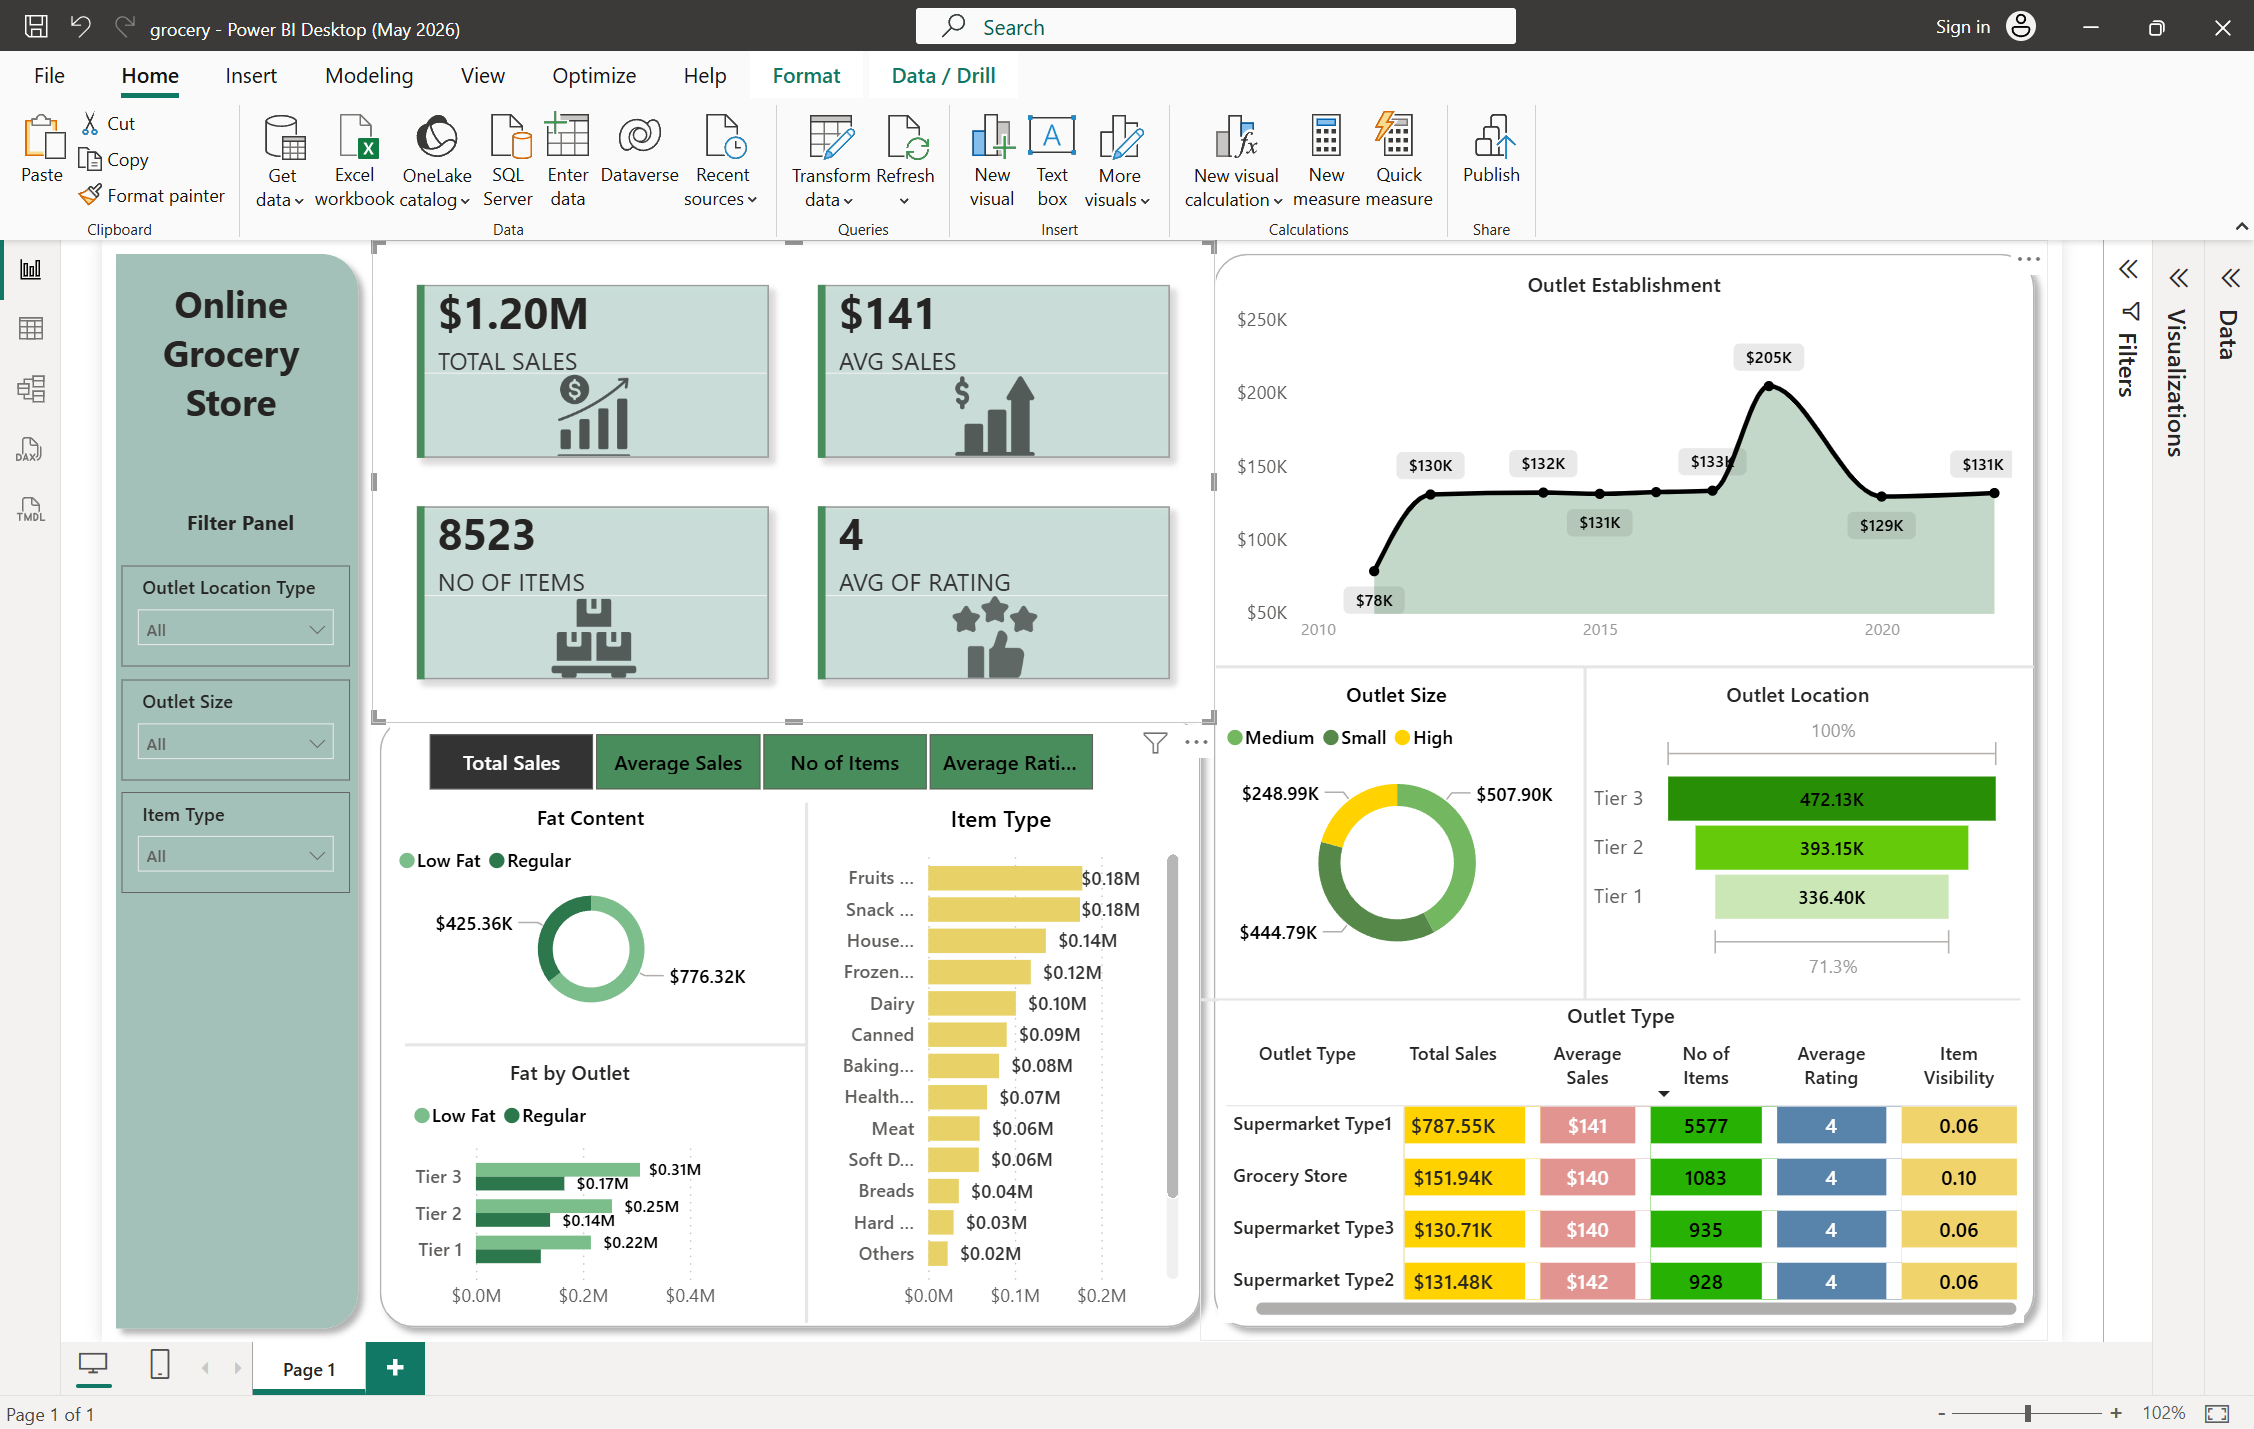

This screenshot's page, from the dashboard's own definition file:
{"tool":"powerbi","page":{"name":"Page 1","canvas":[1280,720],"ordinal":0},"visuals":[{"type":"shape","box":[0,0,176.4,720.3],"z":0},{"type":"textbox","box":[9.8,19.6,149.1,118.5],"z":1000},{"type":"cardVisual","fields":{"Data":["BlinkIT Grocery Data.Total Sales","BlinkIT Grocery Data.Average Sales","BlinkIT Grocery Data.No of Items","BlinkIT Grocery Data.Average Rating"]},"box":[176.1,0,551,316],"z":2000},{"type":"shape","box":[172.4,302.8,554.2,416.6],"z":3000},{"type":"donutChart","title":"Fat Content","fields":{"Y":["BlinkIT Grocery Data.Total Sales"],"Category":["BlinkIT Grocery Data.Item Fat Content"]},"box":[187.9,367.5,262.1,144.8],"z":4000},{"type":"slicer","fields":{"Values":["Metrics.Metrics"]},"box":[187.9,316,483.6,50.3],"z":5000},{"type":"clusteredBarChart","title":"Fat by Outlet","fields":{"Y":["BlinkIT Grocery Data.Total Sales"],"Category":["BlinkIT Grocery Data.Outlet Location Type"],"Series":["BlinkIT Grocery Data.Item Fat Content"]},"box":[197.5,533.9,215.5,173.6],"z":6000},{"type":"shape","box":[453.7,367.5,13.2,340],"z":7000},{"type":"shape","box":[197.9,517.5,262.1,16.8],"z":8000},{"type":"barChart","title":"Item Type","fields":{"Y":["BlinkIT Grocery Data.Total Sales"],"Category":["BlinkIT Grocery Data.Item Type"]},"box":[466.8,367.5,241.8,340],"z":9000},{"type":"shape","box":[717,0,554.2,719.4],"z":10000},{"type":"lineChart","title":"Outlet Establishment","fields":{"Category":["BlinkIT Grocery Data.Outlet Establishment Year"],"Y":["BlinkIT Grocery Data.Total Sales"]},"box":[736.2,19.2,517.1,251.4],"z":11000},{"type":"shape","box":[717,488.4,536.3,16.8],"z":12000},{"type":"donutChart","title":"Outlet Size","fields":{"Category":["BlinkIT Grocery Data.Outlet Size"],"Y":["BlinkIT Grocery Data.Total Sales"]},"box":[729,287.3,233.4,192.7],"z":13000},{"type":"shape","box":[962.4,278.9,13.2,217.9],"z":14000},{"type":"funnel","title":"Outlet Location","fields":{"Category":["BlinkIT Grocery Data.Outlet Location Type"],"Y":["Sum(BlinkIT Grocery Data.Sales)"]},"box":[969.6,287.3,277.7,201.1],"z":15000},{"type":"shape","box":[726.6,270.5,536.3,16.8],"z":16000},{"type":"pivotTable","title":"Outlet Type","fields":{"Rows":["BlinkIT Grocery Data.Outlet Type"],"Values":["BlinkIT Grocery Data.Total Sales","BlinkIT Grocery Data.Average Sales","BlinkIT Grocery Data.No of Items","BlinkIT Grocery Data.Average Rating","Avg(BlinkIT Grocery Data.Item Visibility)"]},"box":[729,496.8,526.7,210.7],"z":17000},{"type":"slicer","fields":{"Values":["BlinkIT Grocery Data.Outlet Location Type"]},"box":[13.2,213.1,149.6,65.8],"z":17001},{"type":"slicer","fields":{"Values":["BlinkIT Grocery Data.Outlet Size"]},"box":[13.2,287.3,149.6,65.8],"z":17002},{"type":"slicer","fields":{"Values":["BlinkIT Grocery Data.Item Type"]},"box":[13.2,360.3,149.6,65.8],"z":17003},{"type":"textbox","box":[18.2,169.5,143.7,35.4],"z":17004}]}

Visuals, with their boxes on the page's 1280x720 design canvas (x1, y1, x2, y2). These are canvas units, not pixel positions in the 2254x1429 screenshot, which may show the page scaled, cropped or inside an application window:
shape: {"x1": 0, "y1": 0, "x2": 176, "y2": 720}
textbox: {"x1": 10, "y1": 20, "x2": 159, "y2": 138}
cardVisual - BlinkIT Grocery Data.Total Sales x BlinkIT Grocery Data.Average Sales: {"x1": 176, "y1": 0, "x2": 727, "y2": 316}
shape: {"x1": 172, "y1": 303, "x2": 727, "y2": 719}
"Fat Content" donutChart: {"x1": 188, "y1": 368, "x2": 450, "y2": 512}
slicer - Metrics.Metrics: {"x1": 188, "y1": 316, "x2": 672, "y2": 366}
"Fat by Outlet" clusteredBarChart: {"x1": 198, "y1": 534, "x2": 413, "y2": 708}
shape: {"x1": 454, "y1": 368, "x2": 467, "y2": 708}
shape: {"x1": 198, "y1": 518, "x2": 460, "y2": 534}
"Item Type" barChart: {"x1": 467, "y1": 368, "x2": 709, "y2": 708}
shape: {"x1": 717, "y1": 0, "x2": 1271, "y2": 719}
"Outlet Establishment" lineChart: {"x1": 736, "y1": 19, "x2": 1253, "y2": 271}
shape: {"x1": 717, "y1": 488, "x2": 1253, "y2": 505}
"Outlet Size" donutChart: {"x1": 729, "y1": 287, "x2": 962, "y2": 480}
shape: {"x1": 962, "y1": 279, "x2": 976, "y2": 497}
"Outlet Location" funnel: {"x1": 970, "y1": 287, "x2": 1247, "y2": 488}
shape: {"x1": 727, "y1": 270, "x2": 1263, "y2": 287}
"Outlet Type" pivotTable: {"x1": 729, "y1": 497, "x2": 1256, "y2": 708}
slicer - BlinkIT Grocery Data.Outlet Location Type: {"x1": 13, "y1": 213, "x2": 163, "y2": 279}
slicer - BlinkIT Grocery Data.Outlet Size: {"x1": 13, "y1": 287, "x2": 163, "y2": 353}
slicer - BlinkIT Grocery Data.Item Type: {"x1": 13, "y1": 360, "x2": 163, "y2": 426}
textbox: {"x1": 18, "y1": 170, "x2": 162, "y2": 205}
